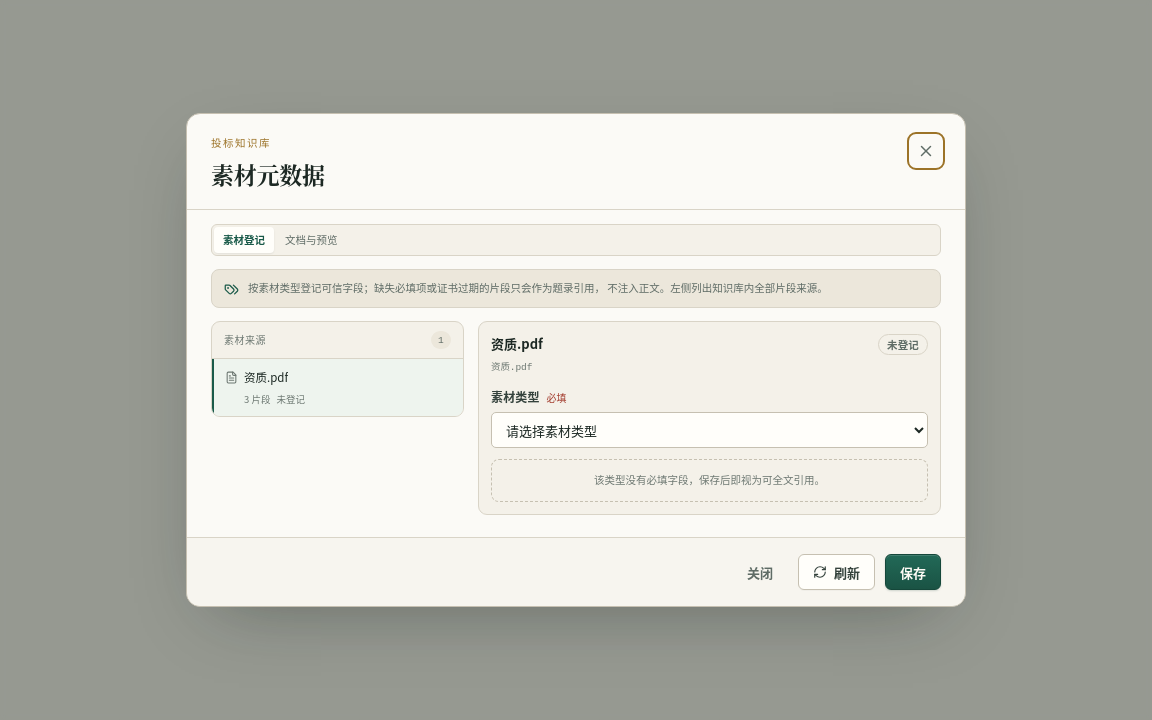
Test case: AdminKbDocsModal 文档清单与检索预览 › 保留原有素材登记视图，切换后可渲染文档的状态/有效期/片段数
This screenshot has width=1152, height=720.
Expected: the text "素材来源" is shown, [224,332,266,348]
Click the button "文档与预览": click(311, 240) [276,227,346,253]
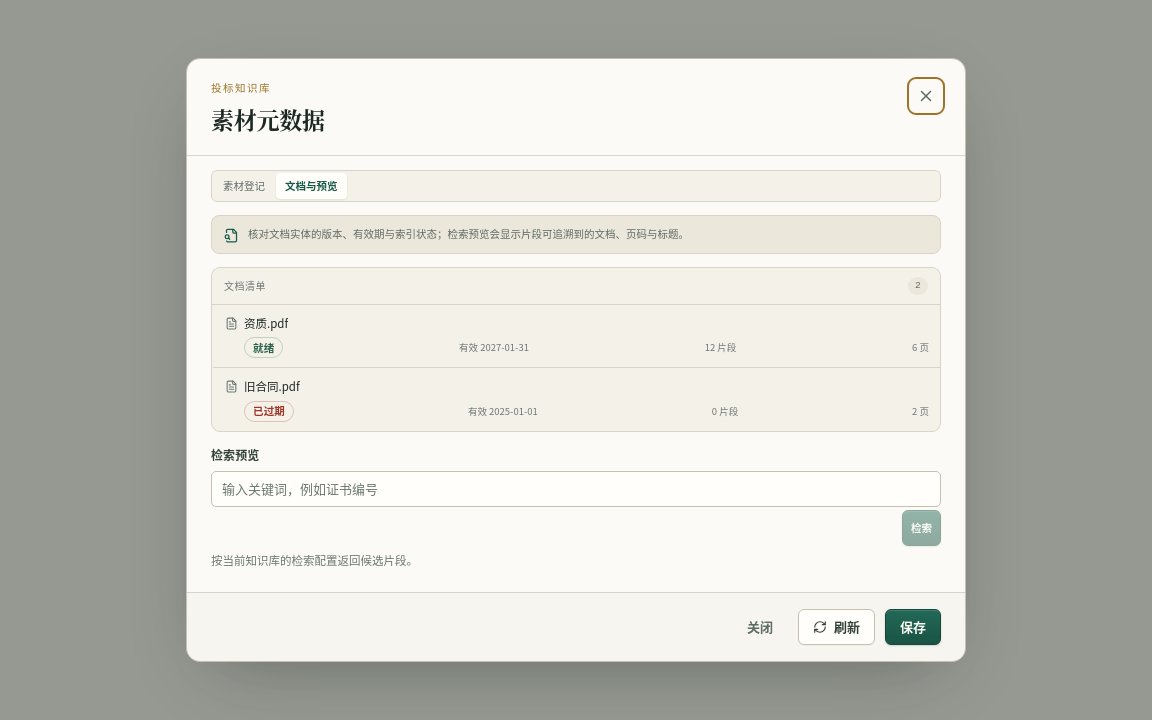
Now the text "就绪" is shown, box [244,337,283,358]
Now the text "有效 2027-01-31" is shown, box [459,340,529,355]
Now the text "12 片段" is shown, box [705,340,736,355]
